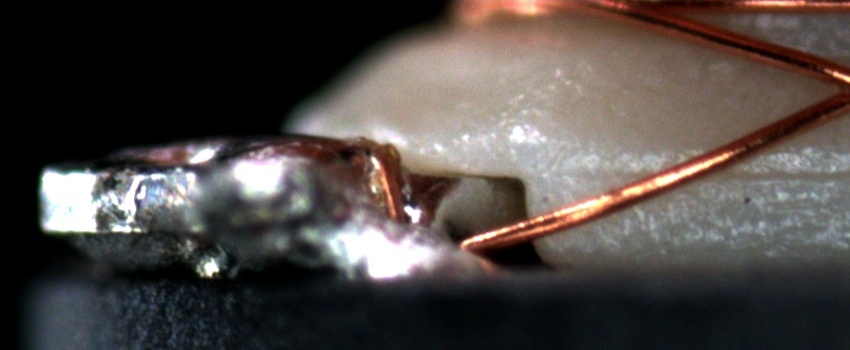CL: (811, 65, 849, 114)
DL: (562, 143, 850, 204)
TE: (363, 146, 409, 222)
